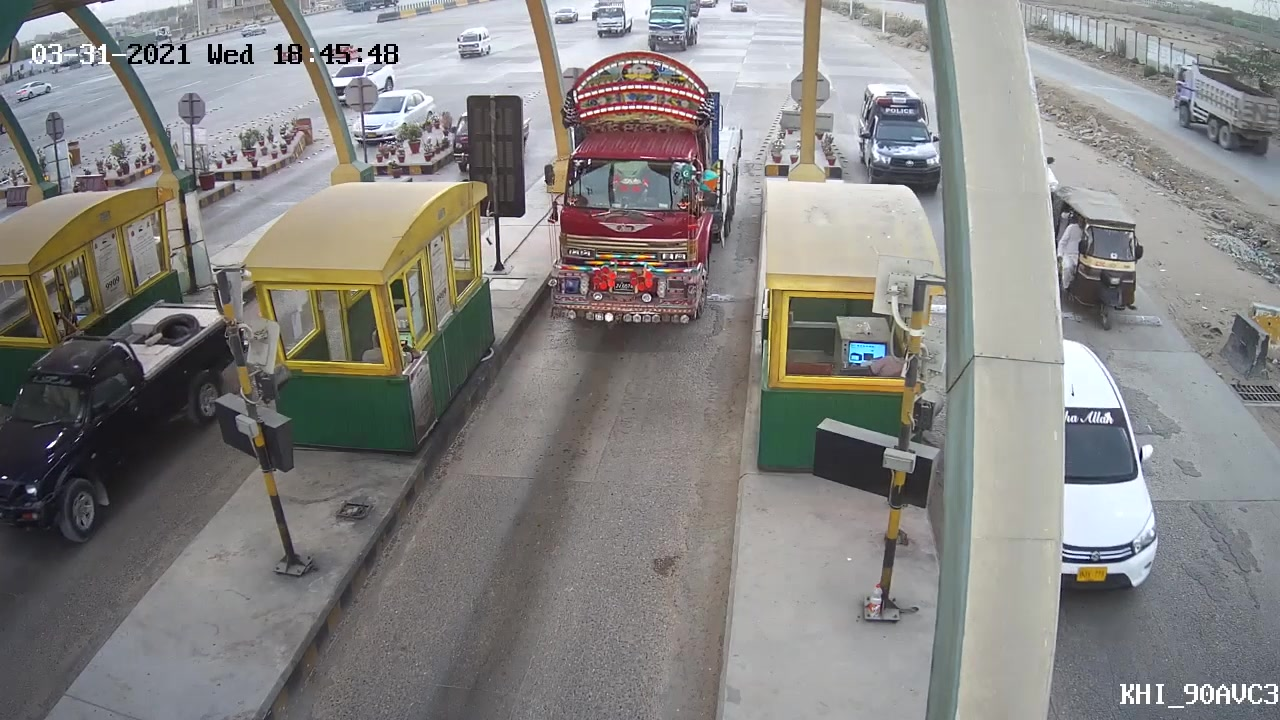F5: (536, 86, 720, 330)
